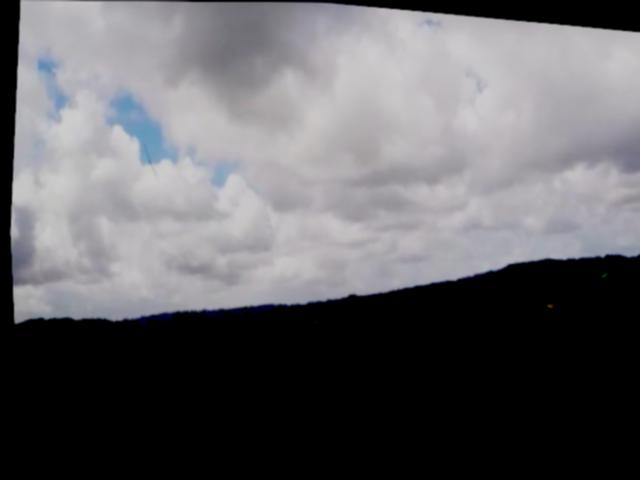iha: (136, 140, 162, 180)
